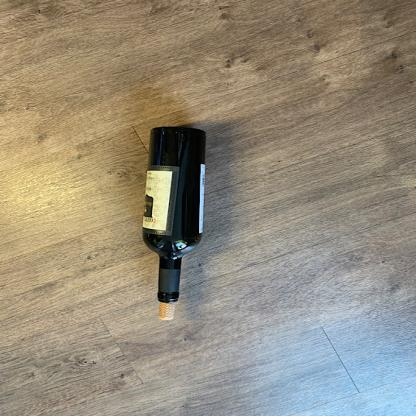trash: (132, 122, 214, 324)
